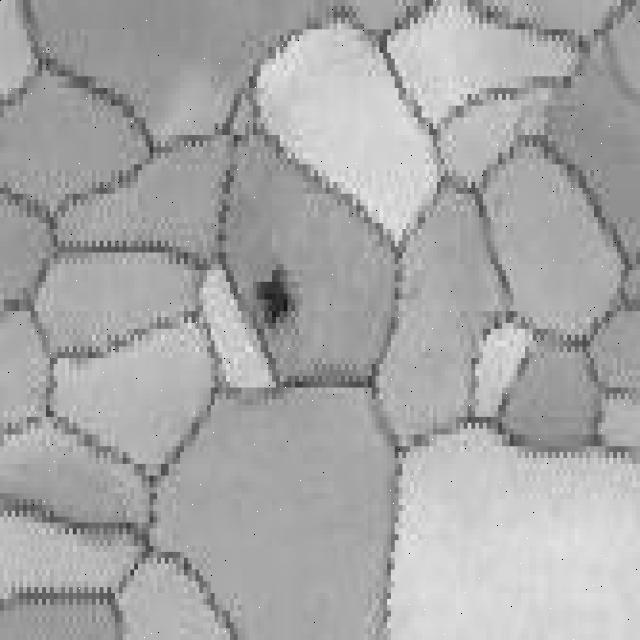good_void: (256, 266, 296, 331)
